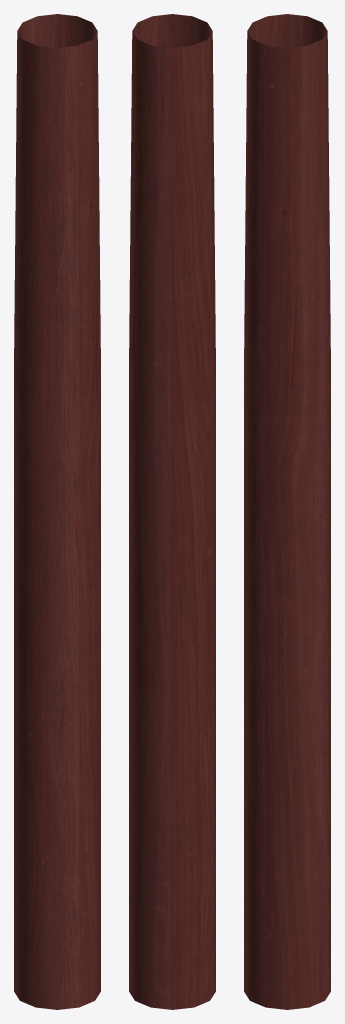
The model's file is SM_SJM_PillarA_01.fbx.
3 renders of one model, left to right at view 1: azimuth 30°, elevation 25°; view 2: azimuth 150°, elevation 25°; view 3: azimuth 330°, elevation 25°, orthographic.
Visible parts, largest first — view 1: SM_SJM_PillarA_01; view 2: SM_SJM_PillarA_01; view 3: SM_SJM_PillarA_01.
Boxes of the visible parts, x1,y1,x2,y2 form: SM_SJM_PillarA_01: (14, 14, 100, 1009); SM_SJM_PillarA_01: (129, 14, 215, 1009); SM_SJM_PillarA_01: (244, 14, 330, 1009).
Bounding box in the file's own units: 43 × 43 × 525.
1 material, 1 textured.
